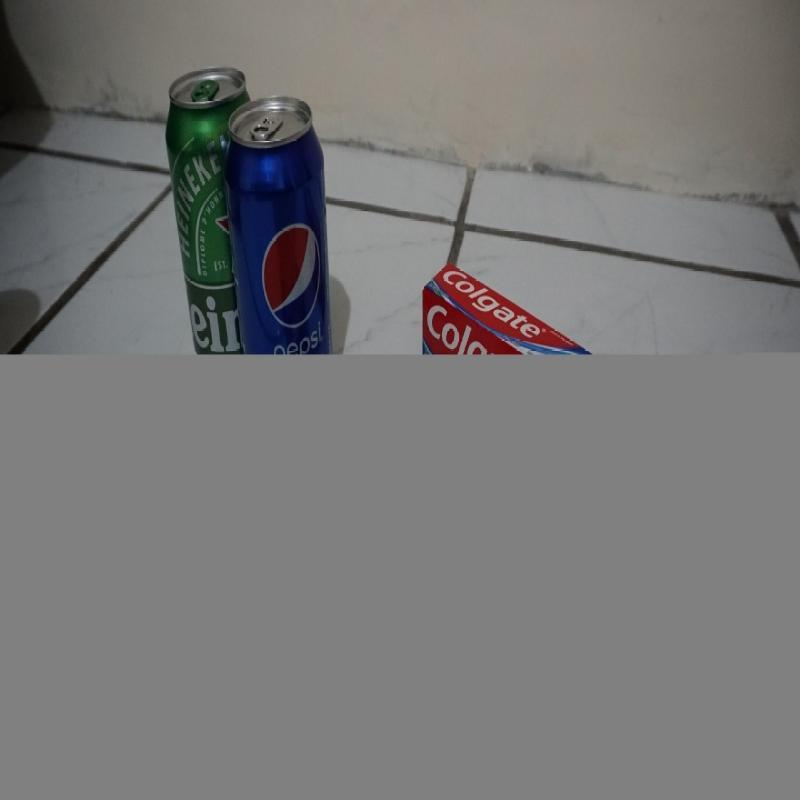Beer can: (169, 66, 224, 346)
Soda can: (226, 91, 328, 344)
Toothpaste: (418, 253, 548, 350)
